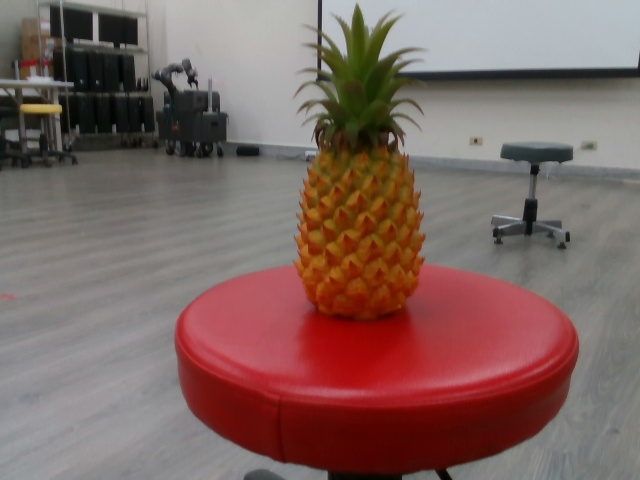pineapple: (289, 5, 430, 327)
